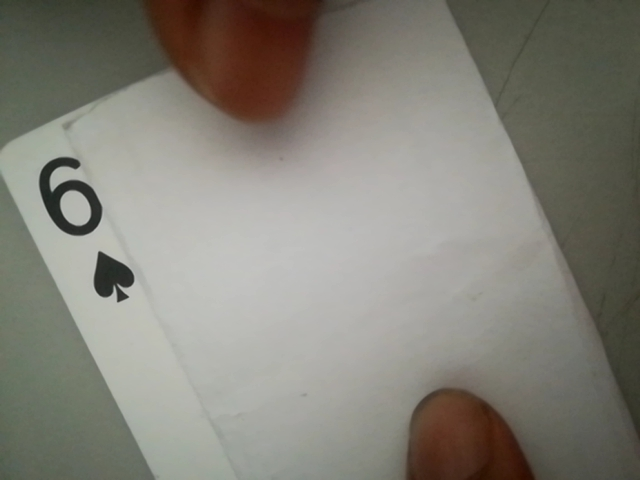ht 6: (19, 146, 142, 303)
